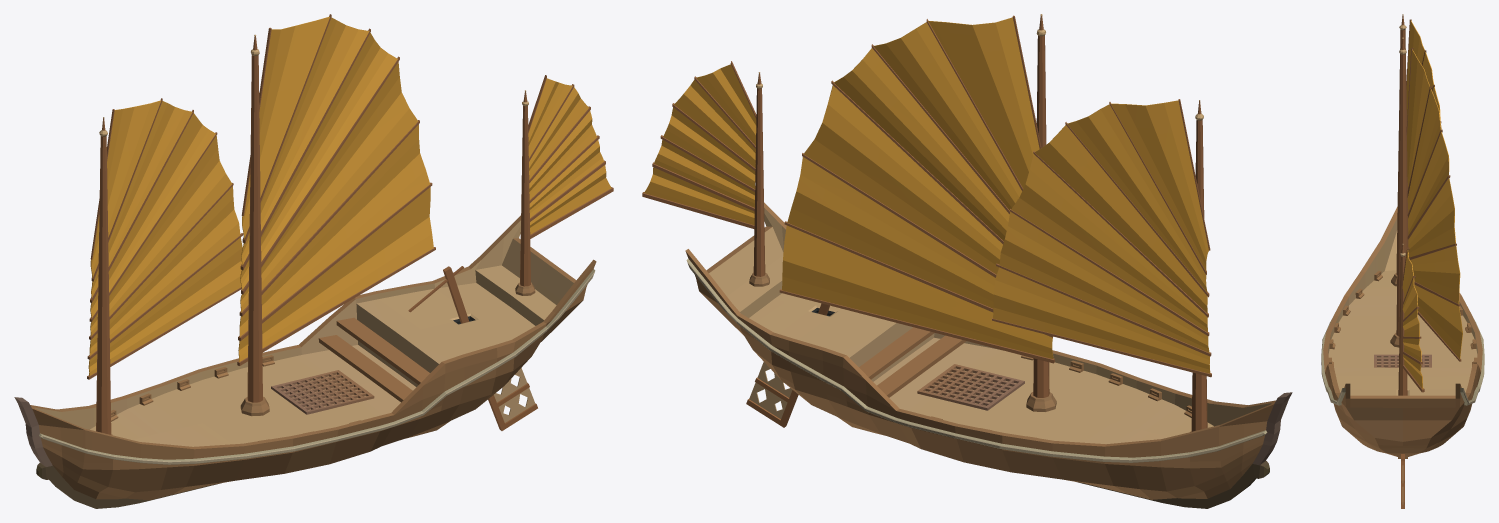
File: junk.obj
3 renders of one model, left to right at view 1: azimuth 30°, elevation 25°; view 2: azimuth 150°, elevation 25°; view 3: azimuth 270°, elevation 25°, orthographic. The views are drawn at different scales.
Visible parts, largest first — view 1: Sail_SaIL, Body, Mast; view 2: Sail_SaIL, Body, Mast; view 3: Body, Sail_SaIL, Mast.
Part boxes in pixels (bbox=[...]): Sail_SaIL: bbox=[88, 16, 611, 375]; Body: bbox=[14, 215, 596, 508]; Mast: bbox=[87, 14, 613, 434]; Sail_SaIL: bbox=[644, 17, 1210, 373]; Body: bbox=[685, 202, 1292, 508]; Mast: bbox=[642, 14, 1211, 431]; Body: bbox=[1321, 206, 1484, 508]; Sail_SaIL: bbox=[1402, 20, 1462, 388]; Mast: bbox=[1396, 14, 1461, 395].
Size of the model in its own units: 377 by 270 by 108.
1 material, 1 textured.
